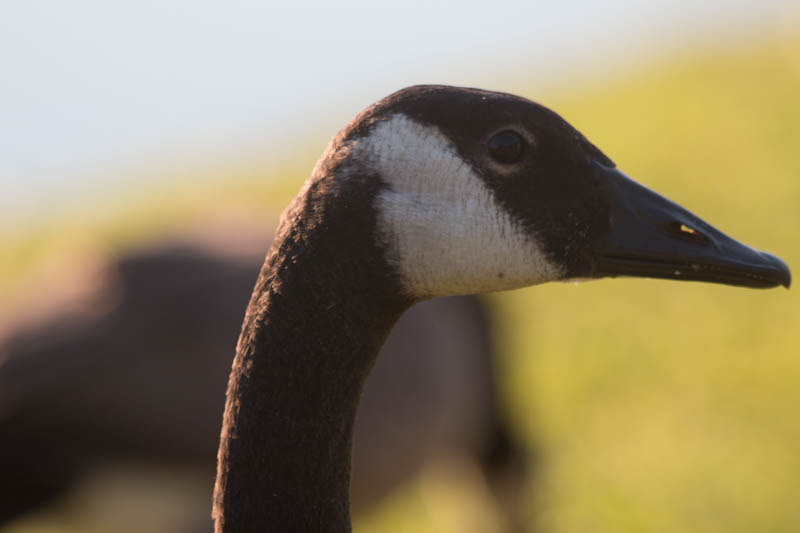goose-head: (306, 84, 792, 309)
